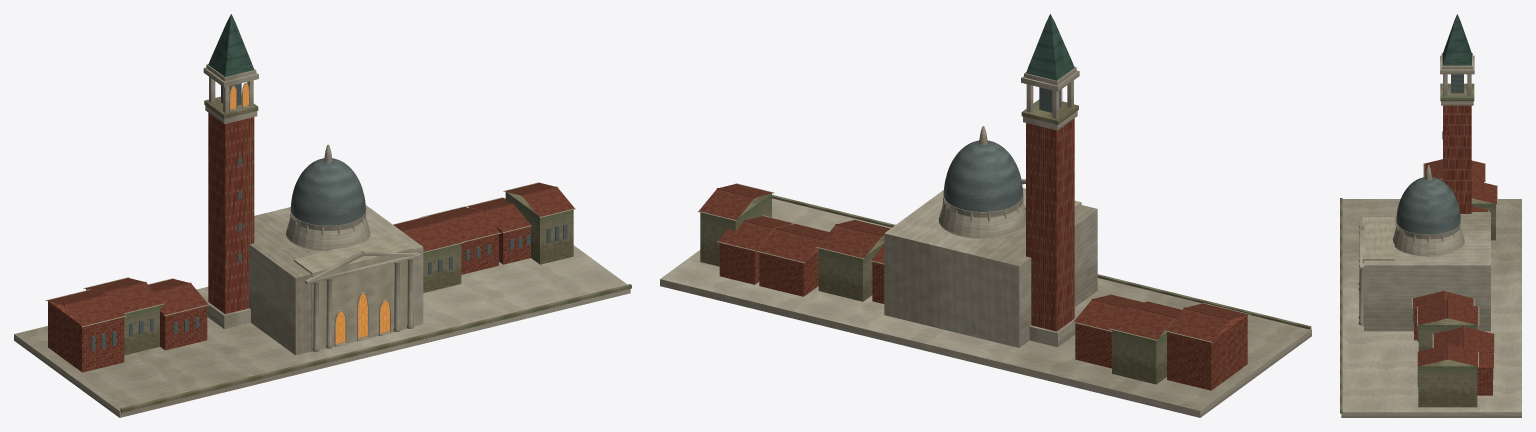
File: venice_campanile_island.glb
3 views of the same model, side by side, from view 1: azimuth 30°, elevation 25°; view 2: azimuth 150°, elevation 25°; view 3: azimuth 270°, elevation 25° (orthographic). The views are drawn at different scales.
Visible parts, largest first — view 1: venice_campanile_island; view 2: venice_campanile_island; view 3: venice_campanile_island.
Part boxes in pixels (x1,y1,x2,y2): venice_campanile_island: (14,14,631,417); venice_campanile_island: (660,14,1311,417); venice_campanile_island: (1340,14,1521,417).
Size of the model in its own units: 50 by 29 by 18.
Materials: 2 (2 with a texture image).
